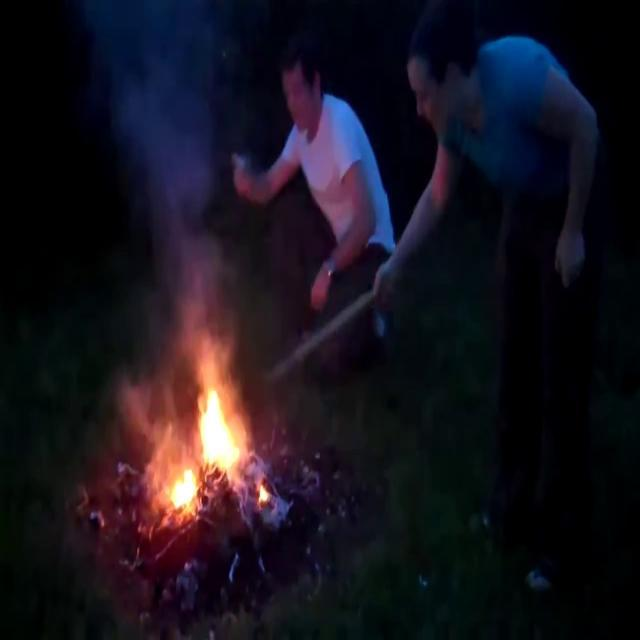Fire: (157, 356, 267, 518)
Smoke: (90, 1, 247, 362)
